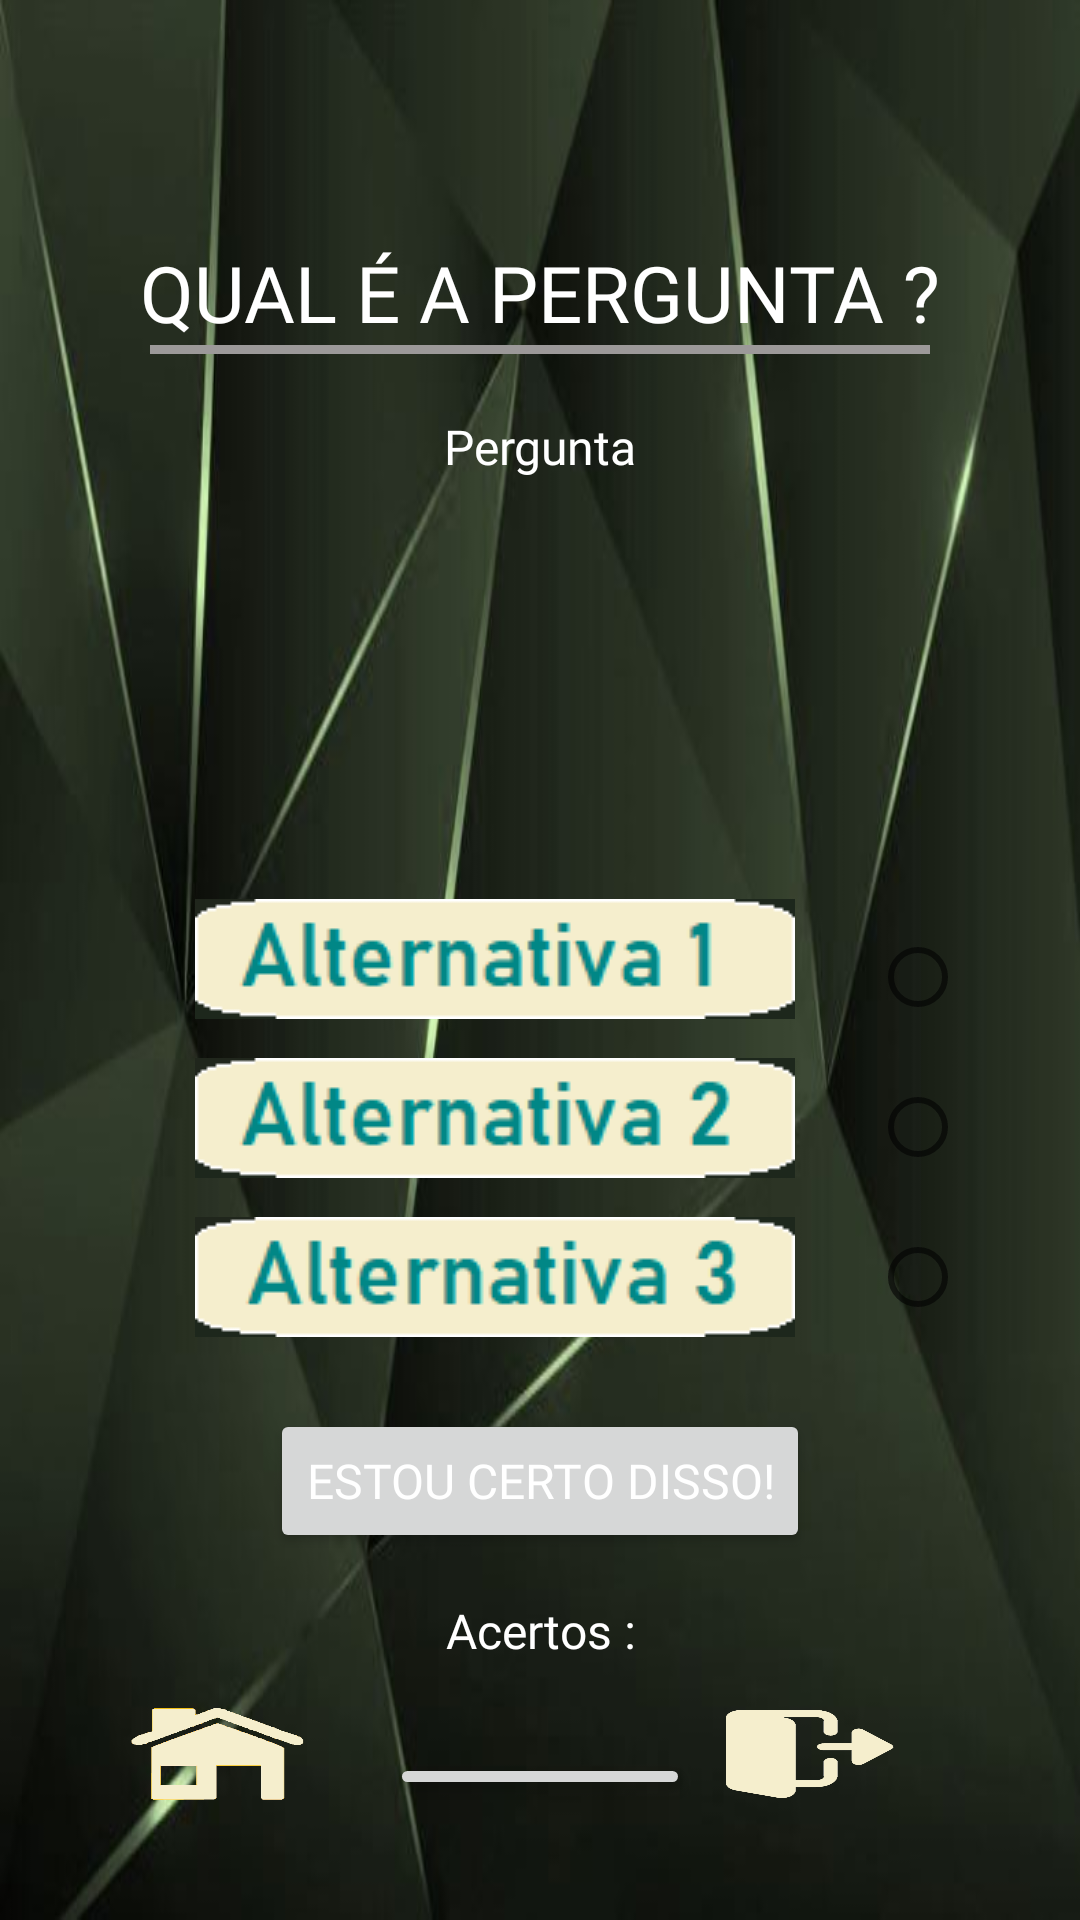

Icons on this 1080 x 1920 Android screen, each with its box as rect(x1, y1, x2, y2):
homef: rect(131, 1708, 304, 1800)
sair: rect(726, 1710, 894, 1798)
